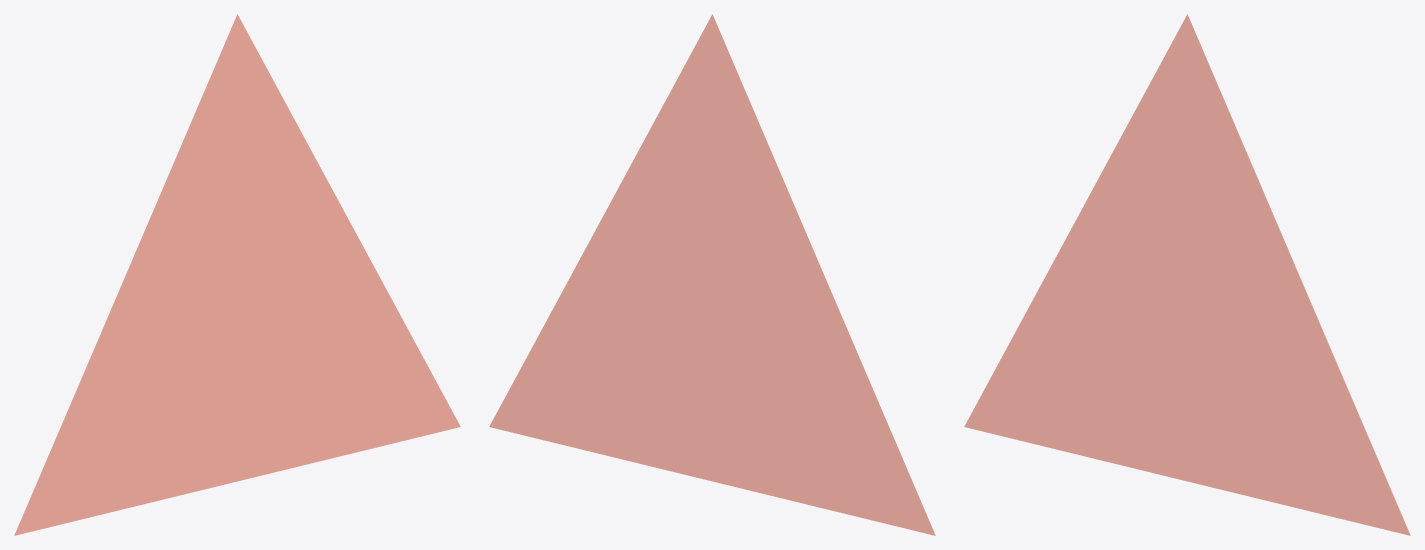
File: triangle.gltf
3 views of the same model, side by side, from view 1: azimuth 30°, elevation 25°; view 2: azimuth 150°, elevation 25°; view 3: azimuth 330°, elevation 25° (orthographic).
Size of the model in its own units: 1.6 by 1.6 by 0.
1 material, 1 textured.
